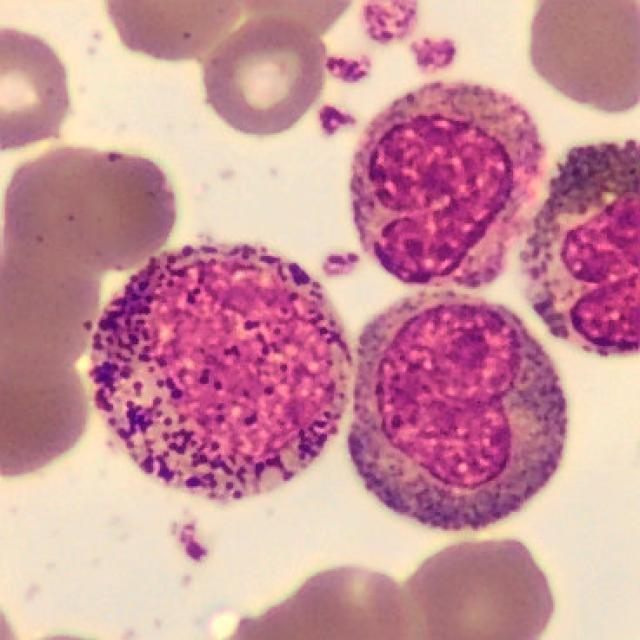Bastonete: (350, 81, 546, 289)
Metamielocito: (348, 303, 569, 531)
Promielocito: (85, 244, 351, 503)
